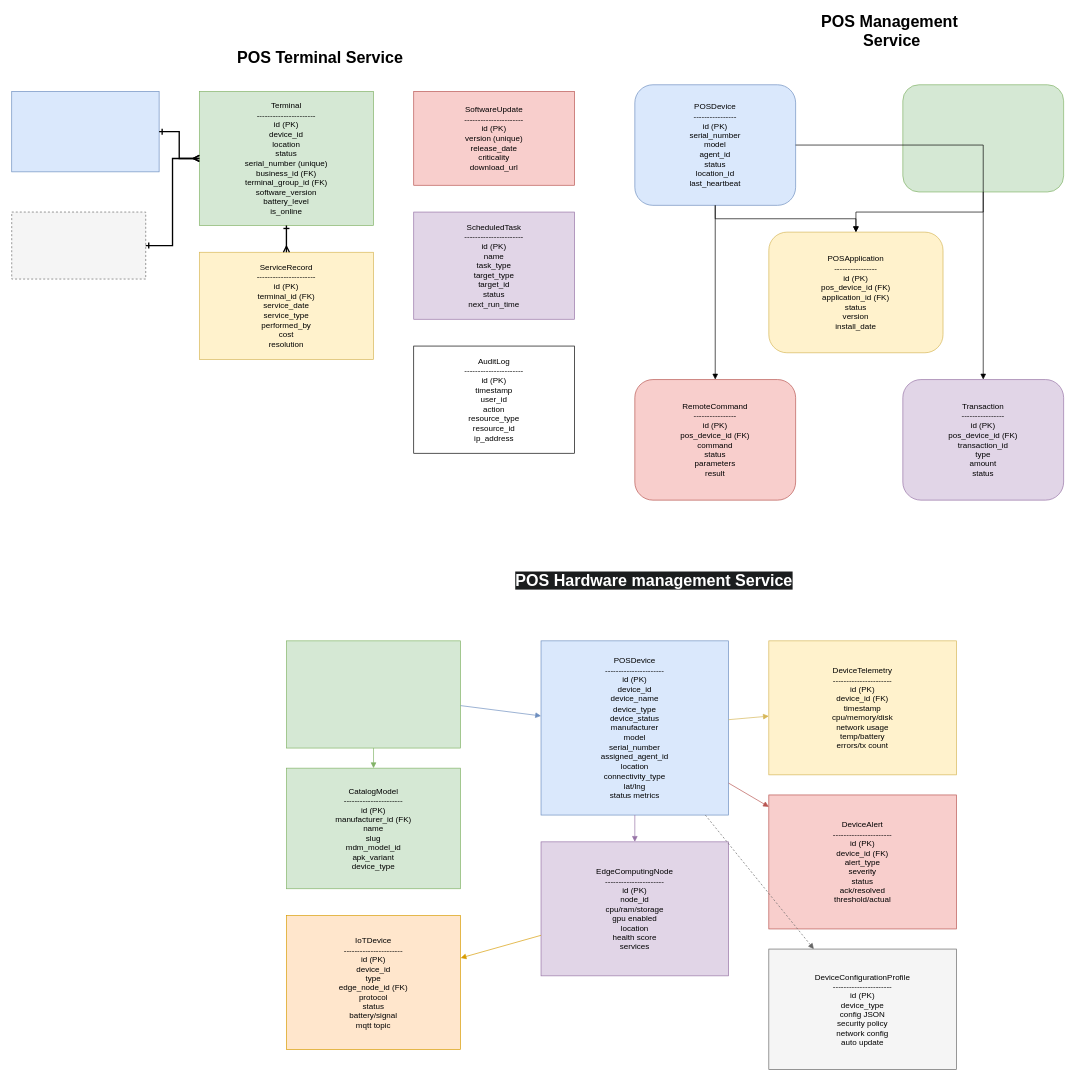
This 1075x1081 diagram has some shape labels left out. The shapes that lost their labels are listed below. From the top down, each one's centre as x and y in pixels, then its label:
At (85,131): "TerminalGroup ---------------------- id (PK) name (unique) description".
At (983,138): "Application ---------------- id (PK) name version type checksum".
At (78,245): "Business (External) ---------------------- id (PK) name".
At (373,694): "CatalogManufacturer ---------------------- id (PK) name slug logo_url website".
